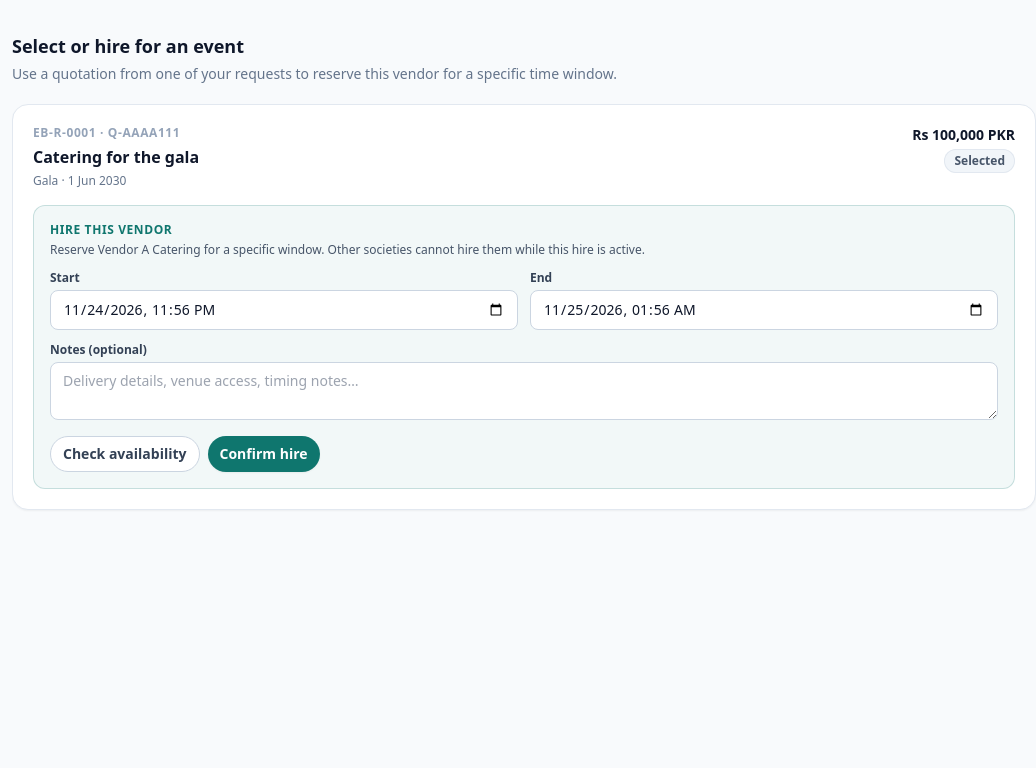
Test: VendorHireOptions › lets a society hire this vendor from the profile
Check: the text "Hire this vendor" is shown, box [50, 221, 172, 238]
What coordinates should you click on to do the following:
click the button "Confirm hire"
I would click on:
 (264, 454)
Its box is [208, 436, 320, 472].
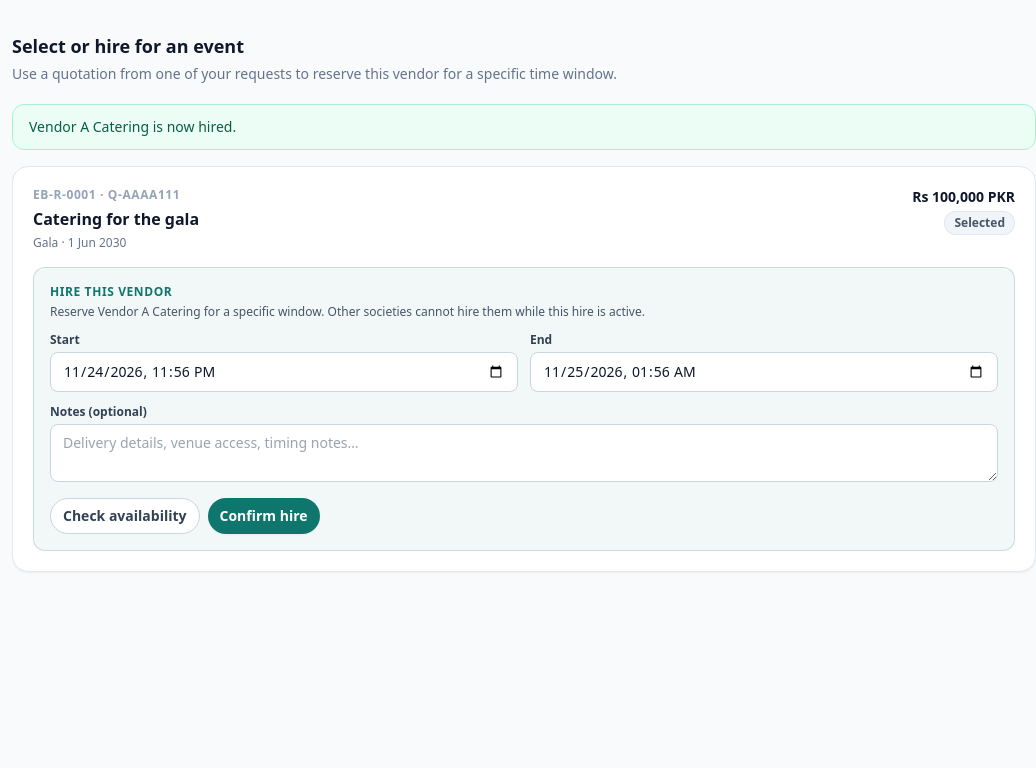
Check: the text "Vendor A Catering is now hired." is shown, box [12, 104, 1035, 150]
